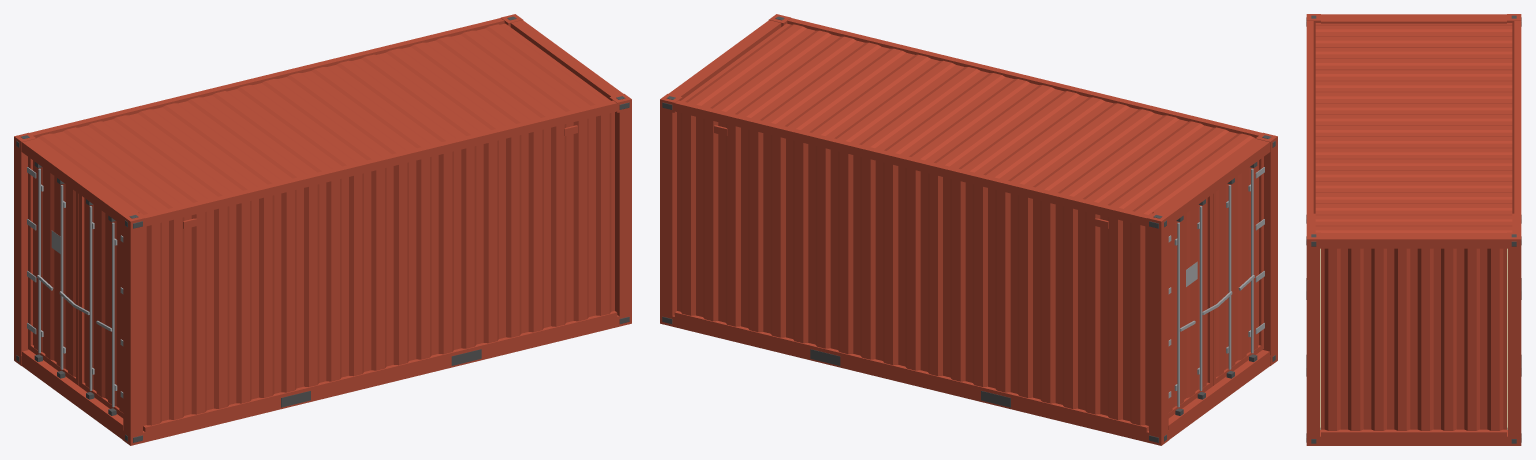
The model's file is shipping_container_20ft.glb.
3 views of the same model, side by side, from view 1: azimuth 30°, elevation 25°; view 2: azimuth 150°, elevation 25°; view 3: azimuth 270°, elevation 25° (orthographic). The views are drawn at different scales.
Visible parts, largest first — view 1: container, door_L_rotate, door_R_rotate; view 2: container, door_R_rotate, door_L_rotate; view 3: container.
Boxes of the visible parts, x1,y1,x2,y2 form: container: (14,14,631,445); door_L_rotate: (27,157,78,385); door_R_rotate: (51,194,123,418); container: (660,14,1277,445); door_R_rotate: (1186,157,1264,385); door_L_rotate: (1168,194,1217,418); container: (1306,14,1521,445).
Bounding box in the file's own units: 6.07 × 2.6 × 2.45.
Materials: 4 (4 with a texture image).
